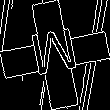M_S: (27, 26, 83, 84)
